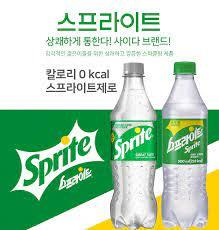sprite_zero: (107, 63, 155, 229)
